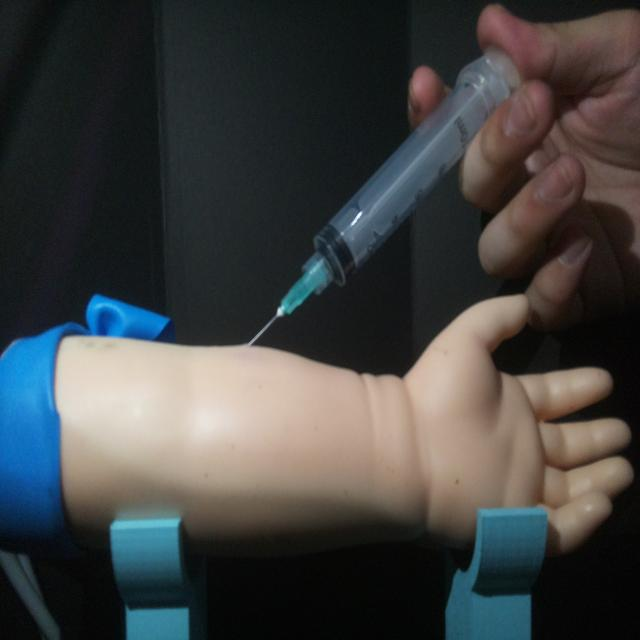29deg: (240, 42, 524, 350)
